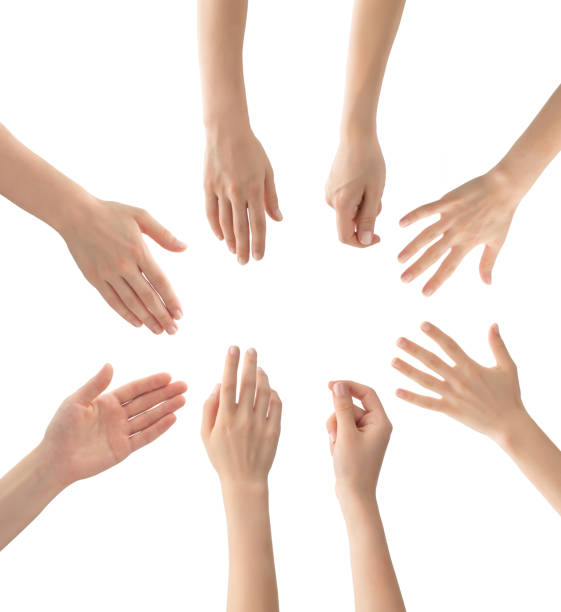hand: (23, 359, 196, 506)
